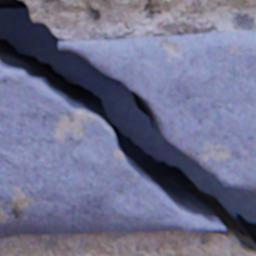broken_brick: (0, 66, 223, 233), (58, 30, 255, 192)
crack: (0, 0, 255, 255)
